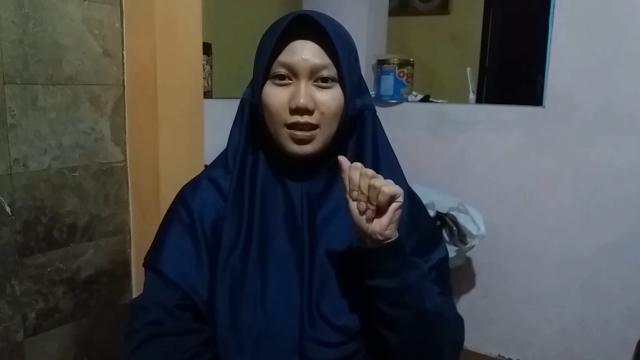A: (333, 155, 405, 243)
